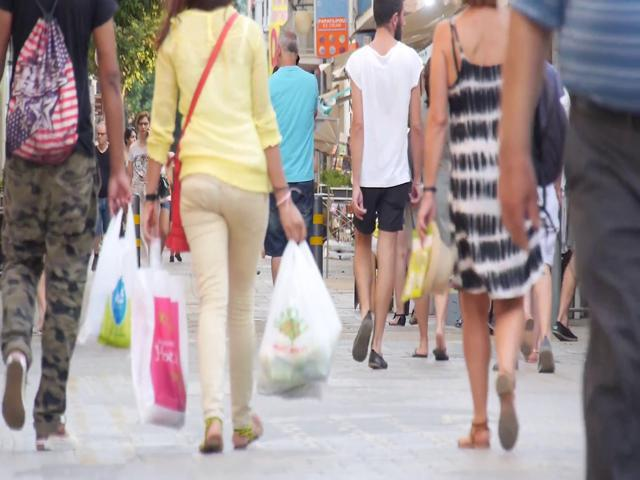shoe: (495, 374, 520, 450), (2, 351, 26, 429), (232, 412, 264, 449), (352, 312, 373, 361), (36, 429, 80, 451), (199, 419, 224, 454), (459, 423, 490, 449), (538, 339, 555, 372), (552, 322, 578, 341), (368, 351, 388, 368), (412, 346, 429, 357)
